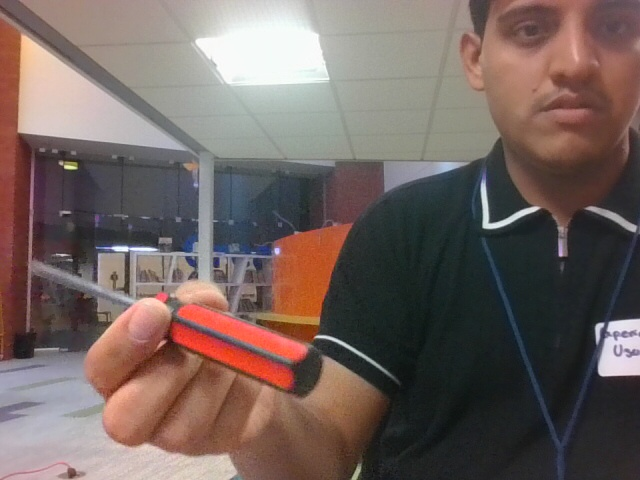destornillador: (28, 258, 320, 394)
